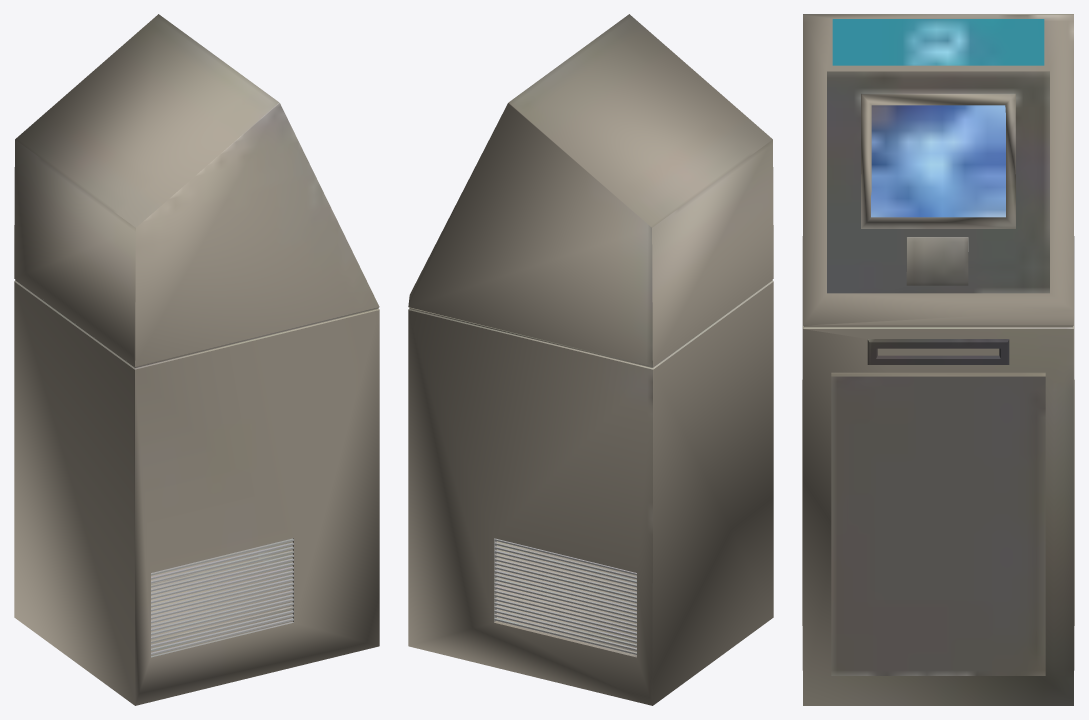
File: atm.lod1.glb
3 views of the same model, side by side, from view 1: azimuth 30°, elevation 25°; view 2: azimuth 150°, elevation 25°; view 3: azimuth 270°, elevation 25° (orthographic). The views are drawn at different scales.
Parts seen in each view (by area): view 1: SMS ATM Machine.Shape_ATM Machine_0; view 2: SMS ATM Machine.Shape_ATM Machine_0; view 3: SMS ATM Machine.Shape_ATM Machine_0, SMS ATM Machine.Shape_Monitor Screen 02_0.
Boxes of the visible parts, left/top/right/bottom form: SMS ATM Machine.Shape_ATM Machine_0: left=14, top=14, right=379, bottom=705; SMS ATM Machine.Shape_ATM Machine_0: left=408, top=14, right=773, bottom=705; SMS ATM Machine.Shape_ATM Machine_0: left=802, top=14, right=1074, bottom=705; SMS ATM Machine.Shape_Monitor Screen 02_0: left=832, top=19, right=1044, bottom=217.
Bounding box in the file's own units: 0.7217 × 1.57 × 0.6081.
Materials: 2 (2 with a texture image).
